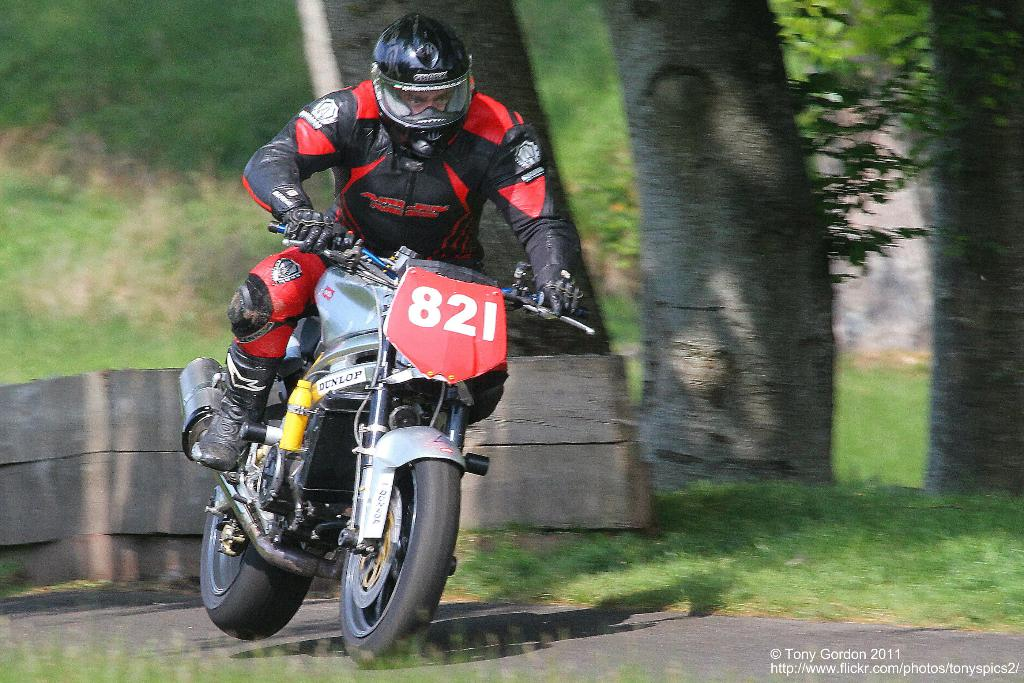Wheel: (196, 483, 319, 646), (325, 463, 432, 648)
